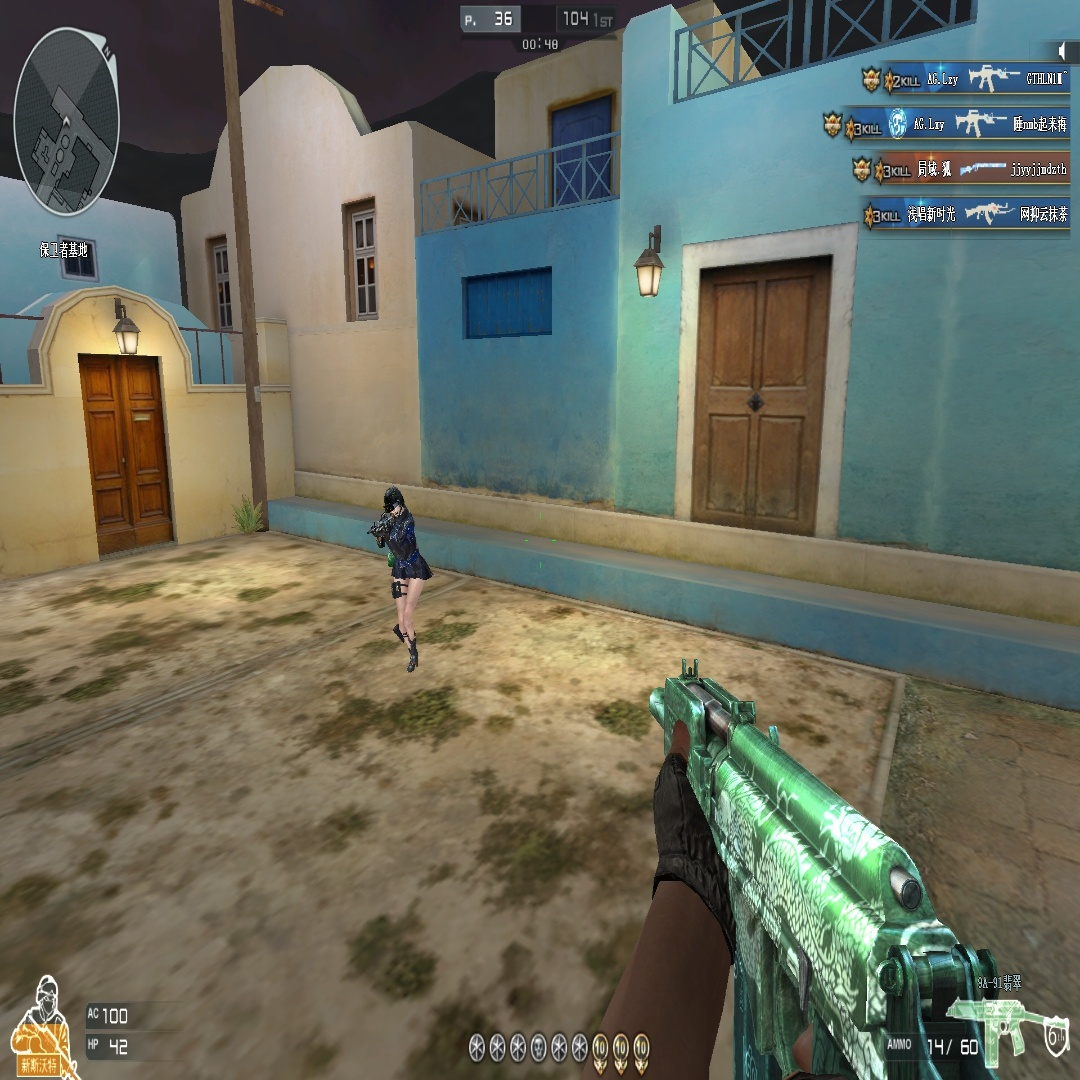head: (383, 485, 405, 518)
p: (368, 486, 433, 674)
